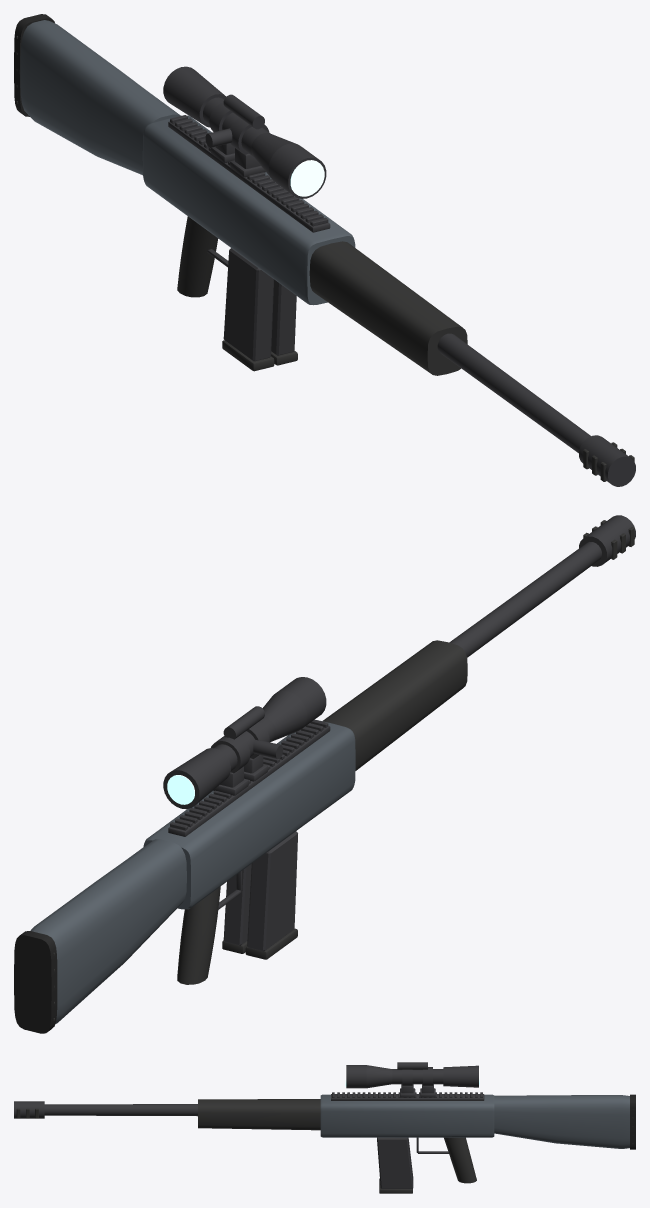
Rendered from flounders.glb.
3 renders of one model, top to bottom at view 1: azimuth 30°, elevation 25°; view 2: azimuth 150°, elevation 25°; view 3: azimuth 270°, elevation 25°, orthographic. The views are drawn at different scales.
Parts seen in each view (by area): view 1: Body; view 2: Body; view 3: Body.
Boxes of the visible parts, x1,y1,x2,y2 form: Body: [14, 14, 635, 486]; Body: [14, 515, 635, 1033]; Body: [14, 1062, 635, 1193].
Size of the model in its own units: 0.072 by 0.2715 by 1.22.
